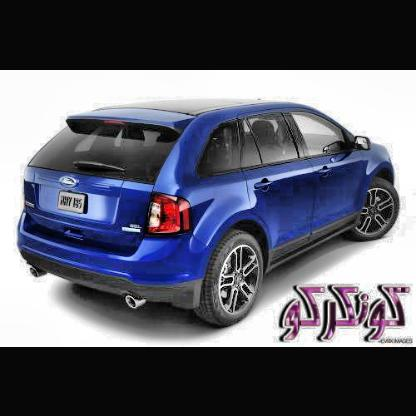Ford Edge SUV 2012: (16, 99, 404, 328)
